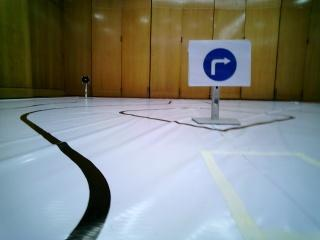right: (193, 44, 250, 85)
